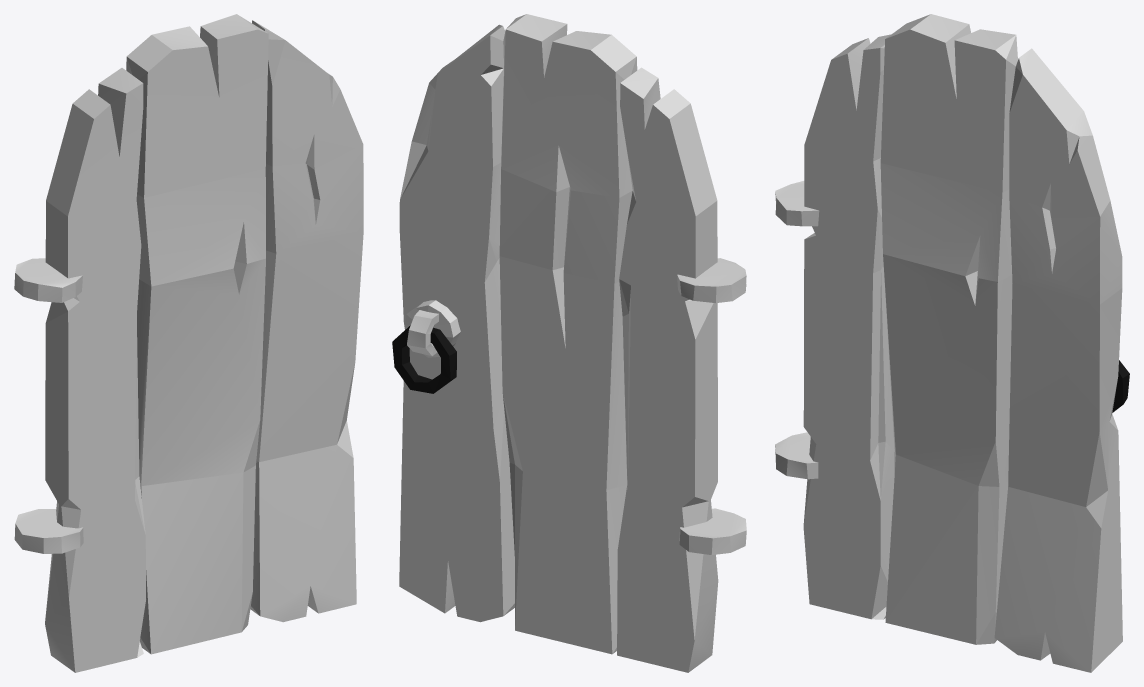
Rendered from NGF_Env_Door_09.fbx.
The picture shows the model from 3 angles, left to right: view 1: azimuth 30°, elevation 25°; view 2: azimuth 150°, elevation 25°; view 3: azimuth 330°, elevation 25°; orthographic projection.
Visible parts, largest first — view 1: NGF_Env_Door_09, NGF_Env_Hinges_19; view 2: NGF_Env_Door_09, NGF_Env_Hinges_19, NGF_Env_Handle_07, NGF_Env_Handle_attachment_07; view 3: NGF_Env_Door_09, NGF_Env_Hinges_19, NGF_Env_Handle_07.
Part boxes in pixels (x1=…): NGF_Env_Door_09: x1=45, y1=14, x2=363, y2=672; NGF_Env_Hinges_19: x1=14, y1=258, x2=83, y2=553; NGF_Env_Door_09: x1=399, y1=14, x2=718, y2=672; NGF_Env_Hinges_19: x1=677, y1=258, x2=746, y2=554; NGF_Env_Handle_07: x1=392, y1=325, x2=456, y2=393; NGF_Env_Handle_attachment_07: x1=405, y1=300, x2=460, y2=357; NGF_Env_Door_09: x1=803, y1=14, x2=1122, y2=672; NGF_Env_Hinges_19: x1=775, y1=181, x2=819, y2=479; NGF_Env_Handle_07: x1=1112, y1=360, x2=1129, y2=412.
Size of the model in its own units: 1.35 by 2.32 by 0.3367.
Materials: 1 (1 with a texture image).
